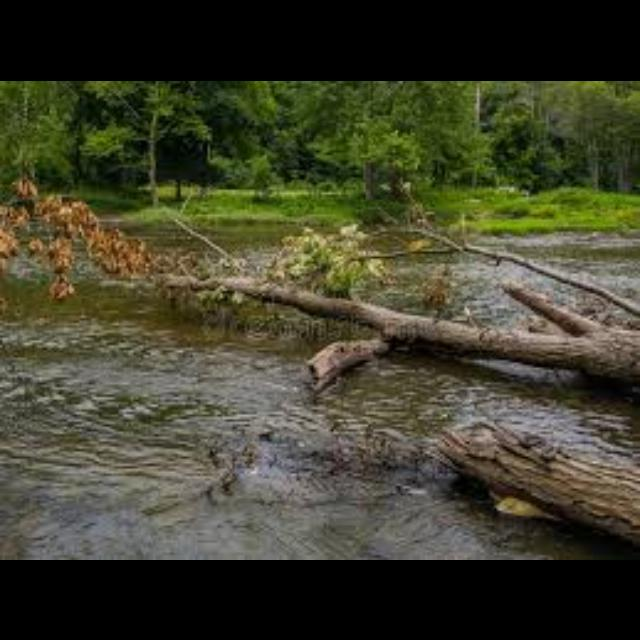Fallen Tree: (168, 266, 640, 388), (449, 414, 639, 546)
